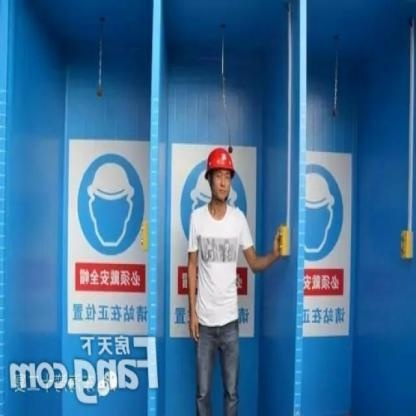red: (200, 144, 239, 185)
